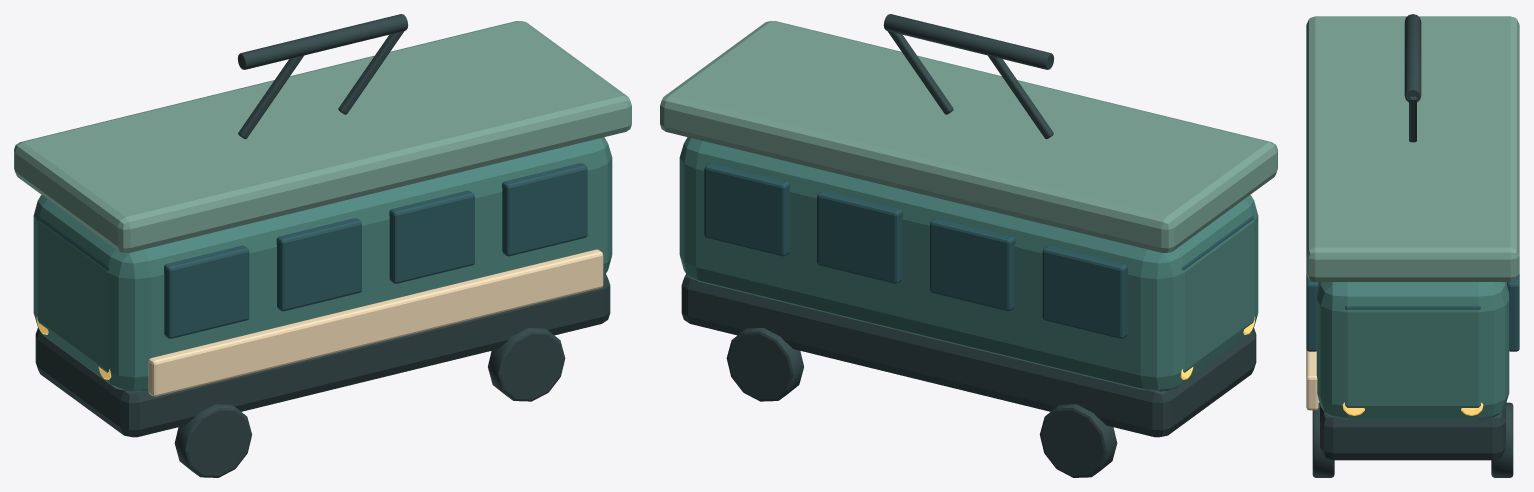
Rendered from tram_car.glb.
The picture shows the model from 3 angles, left to right: view 1: azimuth 30°, elevation 25°; view 2: azimuth 150°, elevation 25°; view 3: azimuth 270°, elevation 25°; orthographic projection. The views are drawn at different scales.
Parts seen in each view (by area): view 1: tram_car · copper_light, tram_car · copper, tram_car · metal, tram_car · window, tram_car · plaster_light; view 2: tram_car · copper_light, tram_car · copper, tram_car · metal, tram_car · window; view 3: tram_car · copper_light, tram_car · copper, tram_car · metal, tram_car · window, tram_car · plaster_light, tram_car · lantern.
Part boxes in pixels (box(x1,y1,x2,y2)): tram_car · copper_light: box(14, 21, 631, 253); tram_car · copper: box(33, 137, 612, 391); tram_car · metal: box(35, 14, 610, 477); tram_car · window: box(38, 163, 587, 338); tram_car · plaster_light: box(148, 249, 603, 396); tram_car · copper_light: box(660, 21, 1277, 253); tram_car · copper: box(679, 137, 1258, 391); tram_car · metal: box(681, 14, 1256, 477); tram_car · window: box(704, 163, 1253, 338); tram_car · copper_light: box(1306, 16, 1519, 281); tram_car · copper: box(1316, 282, 1509, 420); tram_car · metal: box(1312, 14, 1513, 477); tram_car · window: box(1306, 274, 1519, 351); tram_car · plaster_light: box(1306, 349, 1318, 410); tram_car · lantern: box(1342, 402, 1483, 415).
Size of the model in its own units: 0.82 by 0.562 by 0.31.
